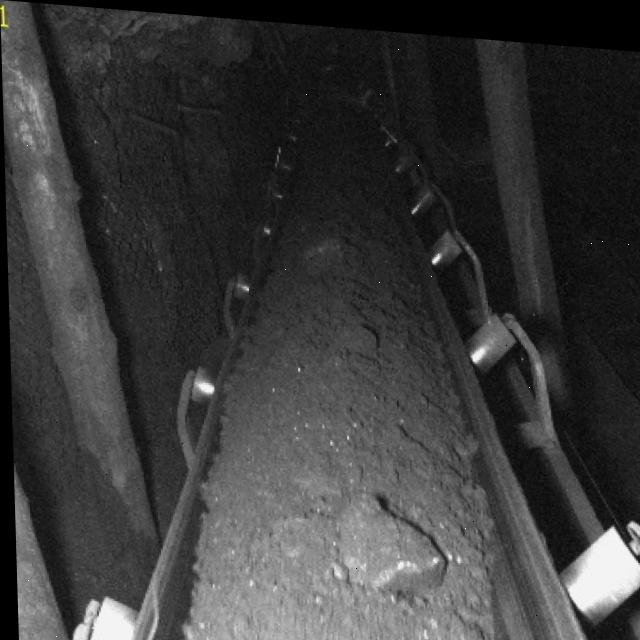large_sized_coal: (331, 484, 444, 594)
